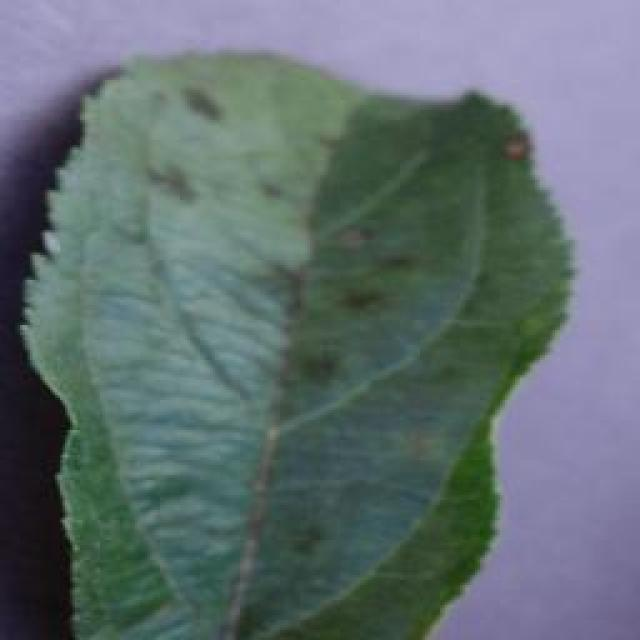apple scab disease: (15, 42, 577, 638)
